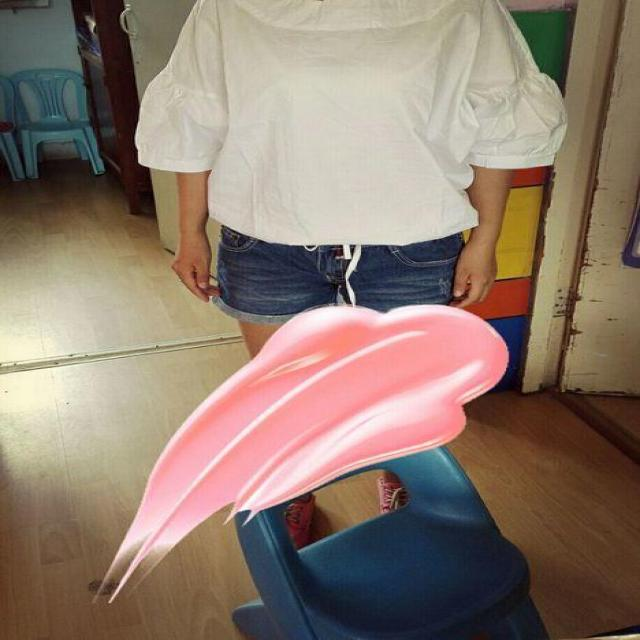short-sleeve-top: (33, 2, 586, 241)
shorts: (219, 244, 589, 318)
